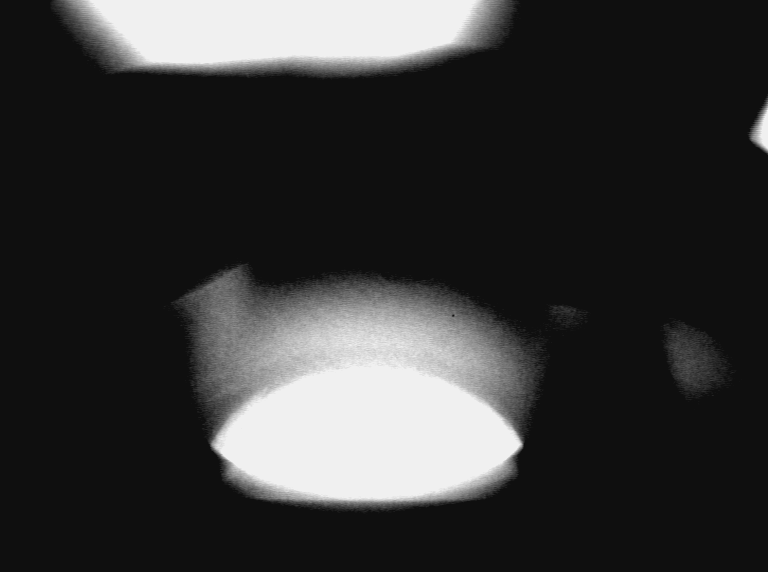defect: (180, 261, 252, 335)
